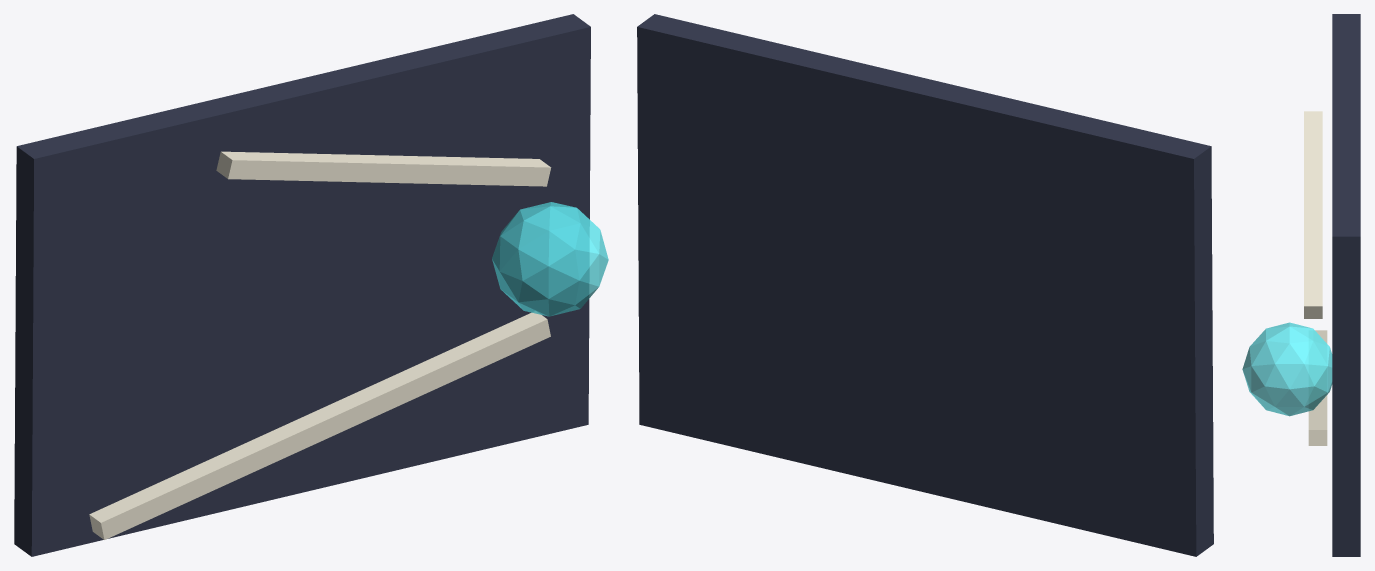
The model's file is 02_world_prop_polish.glb.
3 views of the same model, side by side, from view 1: azimuth 30°, elevation 25°; view 2: azimuth 150°, elevation 25°; view 3: azimuth 270°, elevation 25° (orthographic). The views are drawn at different scales.
Visible parts, largest first — view 1: object_overlay_plate, edge_wear_a, glow_socket, edge_wear_b; view 2: object_overlay_plate; view 3: object_overlay_plate, glow_socket, edge_wear_b, edge_wear_a.
Boxes of the visible parts, x1=… form: object_overlay_plate: x1=14, y1=14, x2=590, y2=556; edge_wear_a: x1=89, y1=311, x2=550, y2=539; glow_socket: x1=492, y1=202, x2=608, y2=316; edge_wear_b: x1=216, y1=151, x2=551, y2=186; object_overlay_plate: x1=637, y1=14, x2=1213, y2=556; object_overlay_plate: x1=1332, y1=14, x2=1360, y2=556; glow_socket: x1=1242, y1=322, x2=1332, y2=416; edge_wear_b: x1=1304, y1=111, x2=1322, y2=318; edge_wear_a: x1=1308, y1=330, x2=1327, y2=445.
Bounding box in the file's own units: 1.1 × 0.7569 × 0.25.
